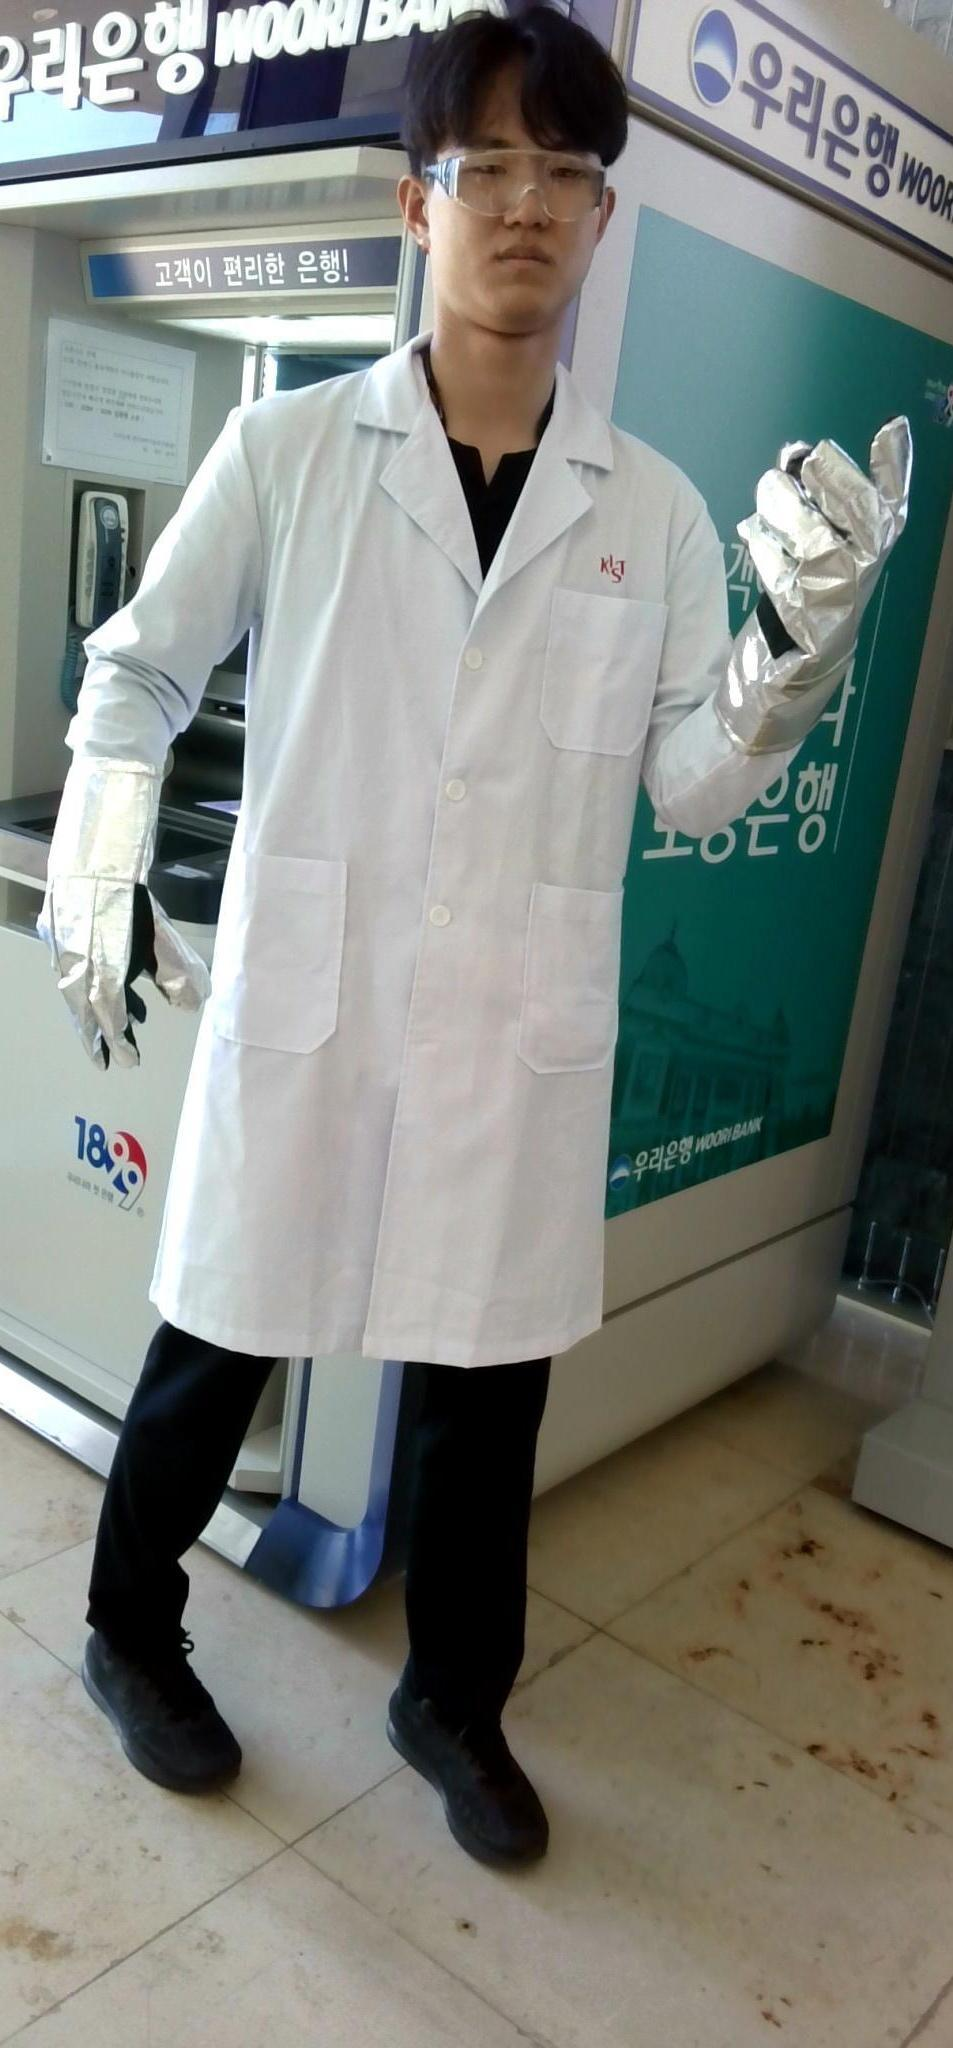lab_coat: (149, 444, 685, 1377)
